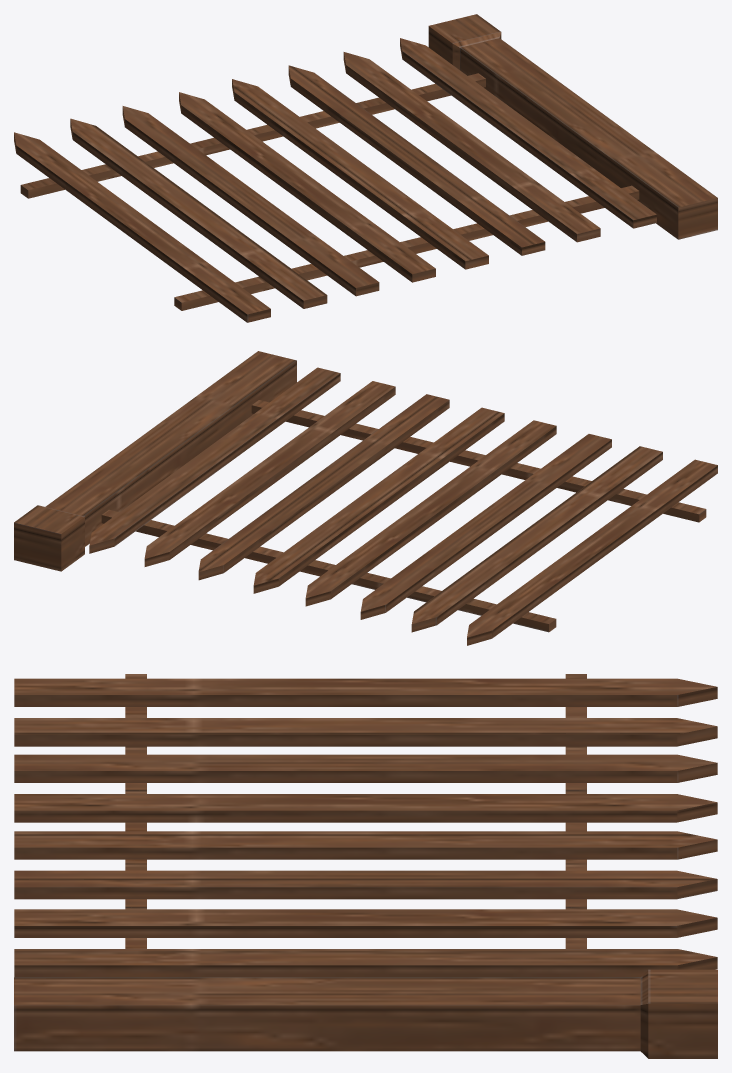
File: fence-wood.obj
3 renders of one model, top to bottom at view 1: azimuth 30°, elevation 25°; view 2: azimuth 150°, elevation 25°; view 3: azimuth 270°, elevation 25°, orthographic. The views are drawn at different scales.
Visible parts, largest first — view 1: fence-wood_Plane.178; view 2: fence-wood_Plane.178; view 3: fence-wood_Plane.178.
Part boxes in pixels (x1=…): fence-wood_Plane.178: x1=14, y1=14, x2=717, y2=322; fence-wood_Plane.178: x1=14, y1=351, x2=717, y2=645; fence-wood_Plane.178: x1=14, y1=674, x2=717, y2=1058.
Bounding box in the file's own units: 1.06 × 0.0778 × 0.8991.
